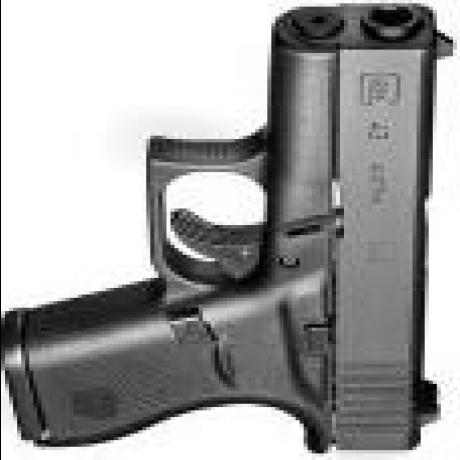weapon: (11, 7, 450, 451)
